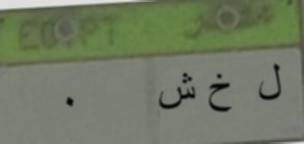0: (58, 84, 90, 115)
khaa: (206, 68, 236, 123)
laam: (252, 57, 286, 107)
sheen: (155, 72, 196, 114)
